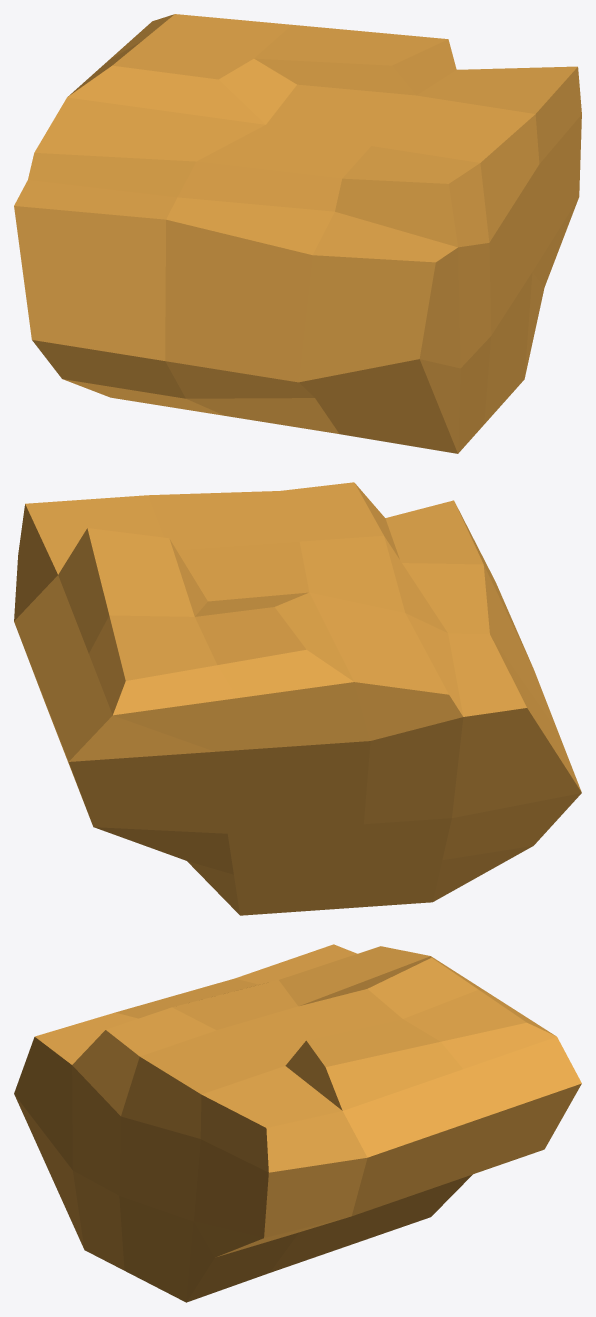
File: carbon.fbx
3 views of the same model, one above another, from view 1: azimuth 30°, elevation 25°; view 2: azimuth 150°, elevation 25°; view 3: azimuth 270°, elevation 25° (orthographic). The views are drawn at different scales.
Visible parts, largest first — view 1: carbon; view 2: carbon; view 3: carbon.
Part boxes in pixels (bbox=[...]): carbon: bbox=[14, 14, 581, 453]; carbon: bbox=[14, 482, 581, 915]; carbon: bbox=[14, 944, 581, 1302].
Bounding box in the file's own units: 0.6972 × 0.3396 × 0.7352.
